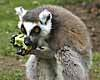cat: (8, 4, 93, 79)
